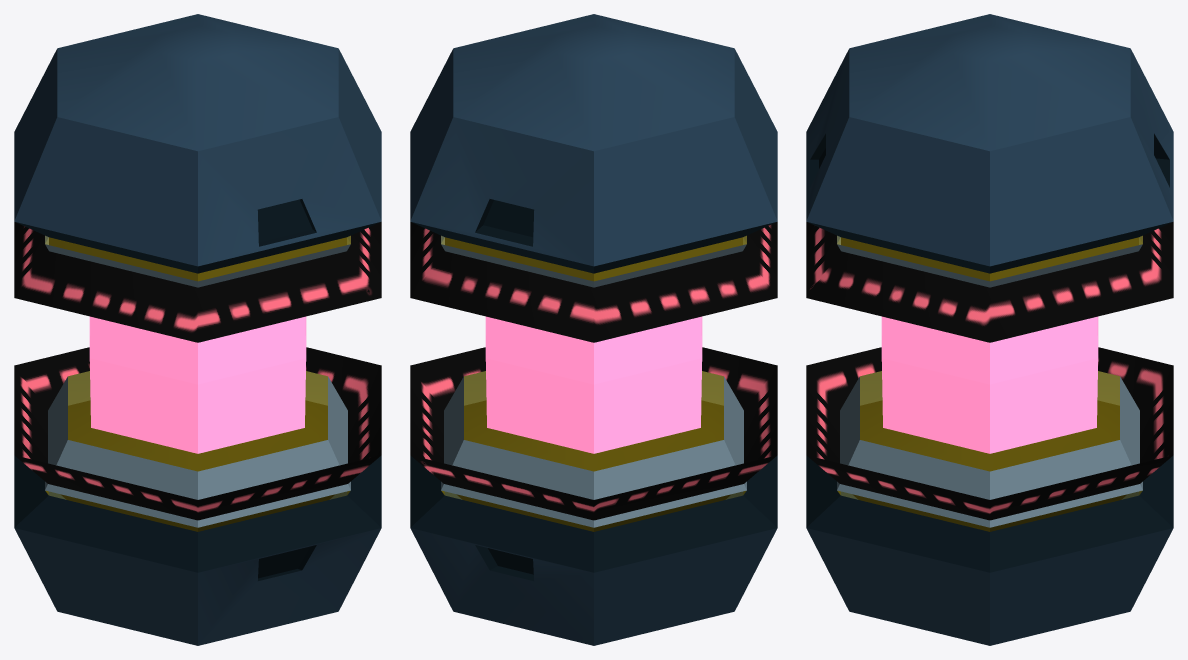
Rendered from lamp.fbx.
The picture shows the model from 3 angles, left to right: view 1: azimuth 30°, elevation 25°; view 2: azimuth 150°, elevation 25°; view 3: azimuth 270°, elevation 25°; orthographic projection.
Visible parts, largest first — view 1: lamp; view 2: lamp; view 3: lamp.
Part boxes in pixels (box(x1,y1,x2,y2)): lamp: box(14, 14, 381, 645); lamp: box(410, 14, 777, 645); lamp: box(806, 14, 1173, 645).
Size of the model in its own units: 200 by 298 by 173.
Materials: 6 (1 with a texture image).
